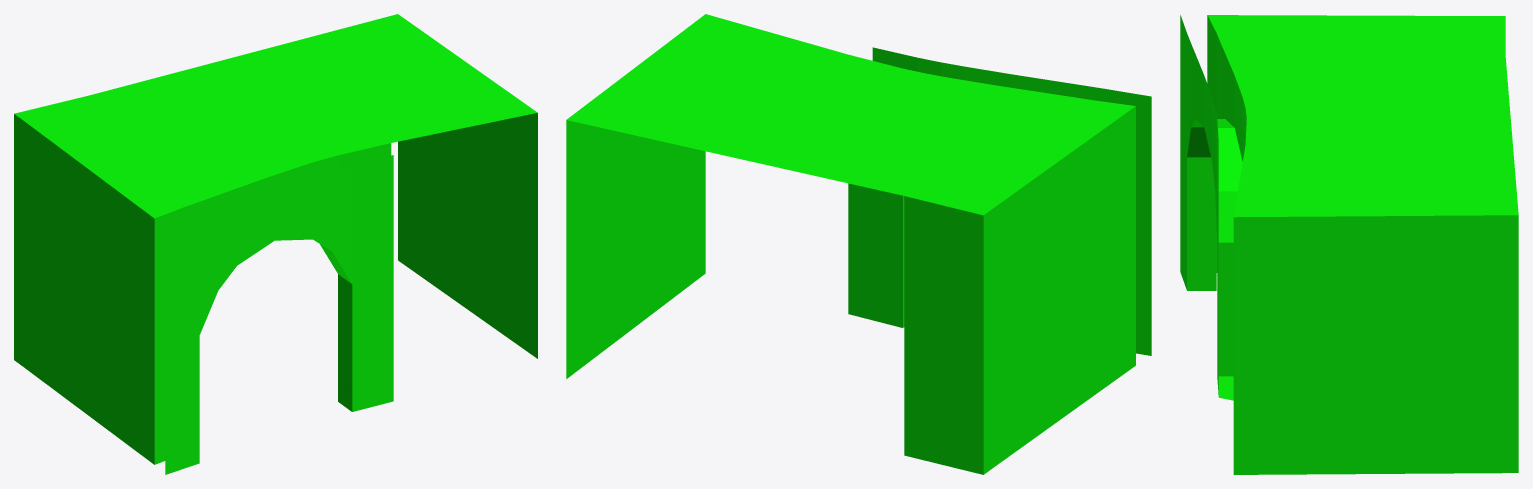
Rendered from Hall-SalleG.FBX.
3 views of the same model, side by side, from view 1: azimuth 30°, elevation 25°; view 2: azimuth 150°, elevation 25°; view 3: azimuth 270°, elevation 25° (orthographic). The views are drawn at different scales.
Visible parts, largest first — view 1: Halle-SalleG; view 2: Halle-SalleG; view 3: Halle-SalleG.
Boxes of the visible parts, x1,y1,x2,y2 form: Halle-SalleG: [14, 14, 537, 474]; Halle-SalleG: [566, 14, 1151, 474]; Halle-SalleG: [1180, 15, 1518, 474].
Bounding box in the file's own units: 215 × 127 × 151.
